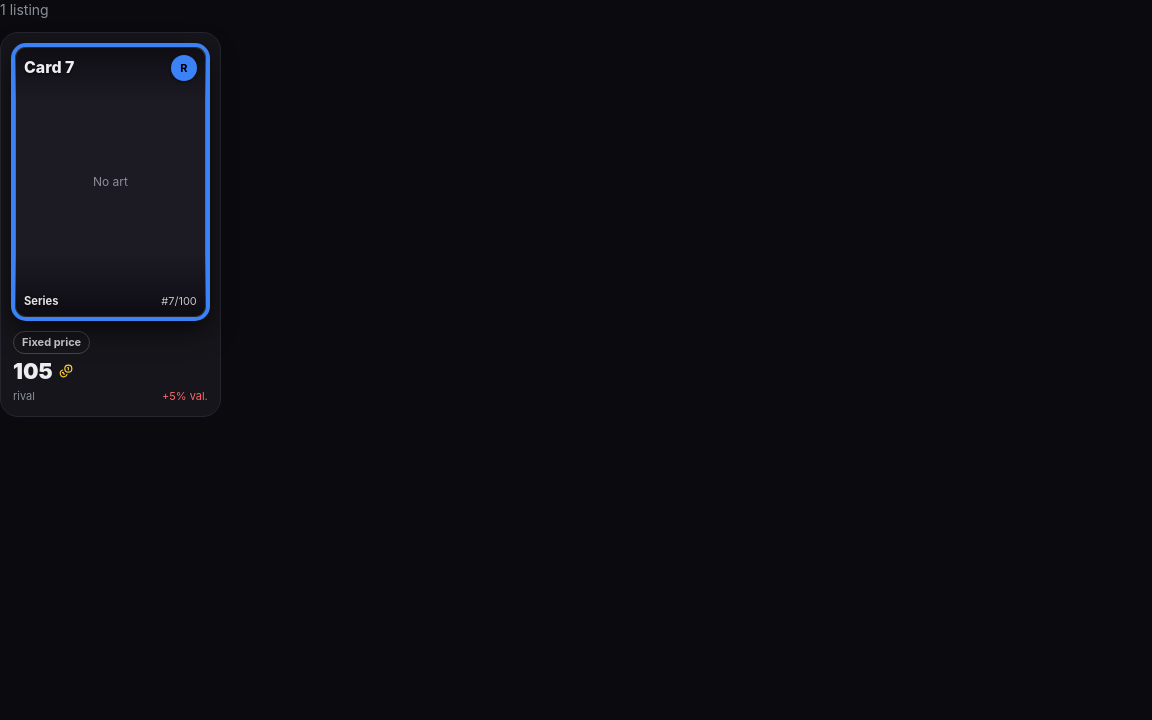
BuyTab › does not reload the list for other errors
Click the button with aria-label "buy".
click(110, 225)  # box left=0, top=32, right=221, bottom=417
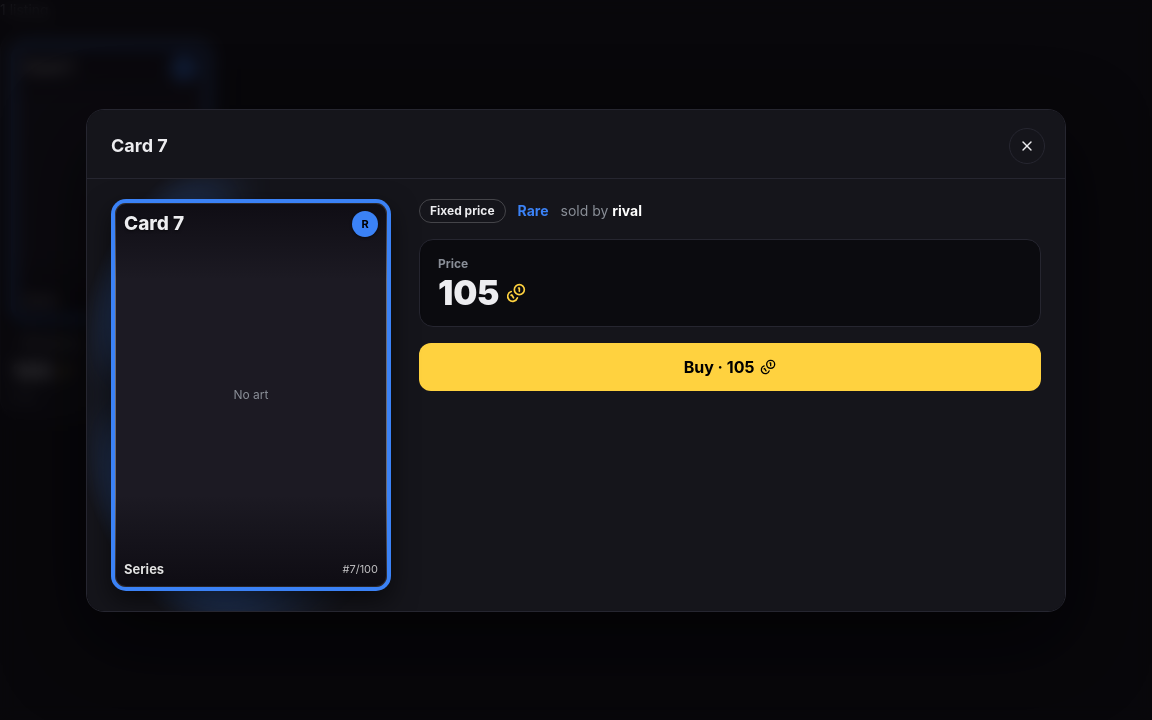
Click the button "Buy · 105".
click(730, 366)  # box left=419, top=342, right=1041, bottom=390
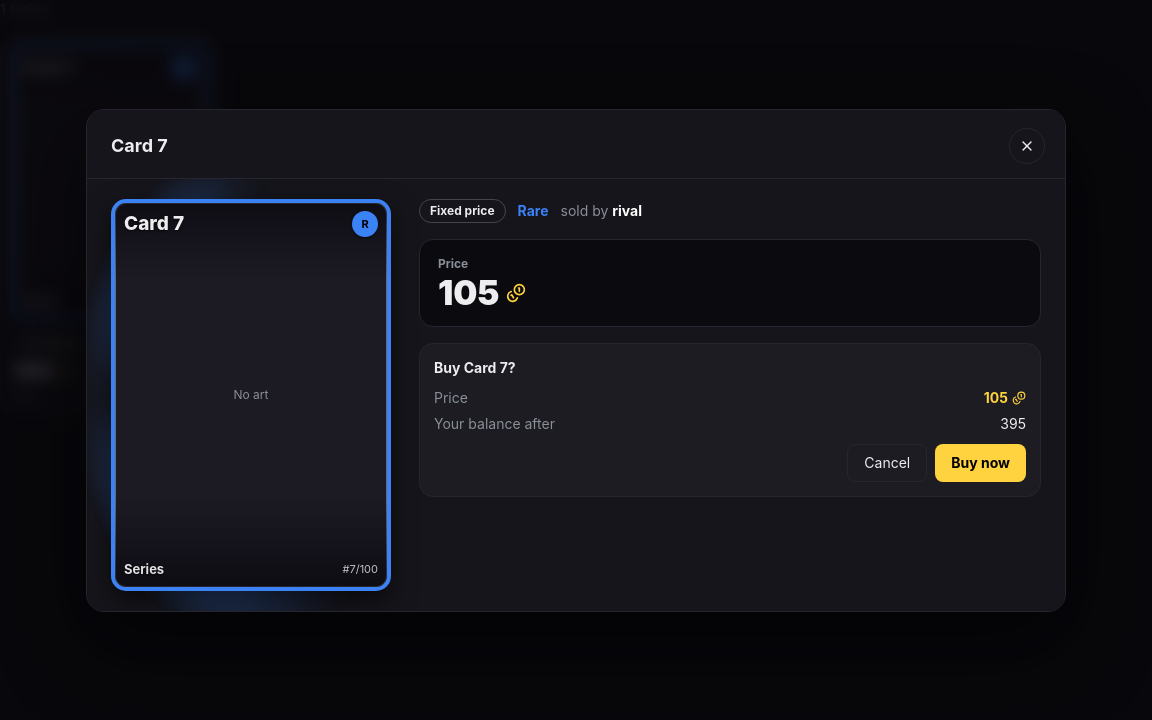
Click the button "Buy now".
click(981, 462)  # box left=935, top=444, right=1026, bottom=482
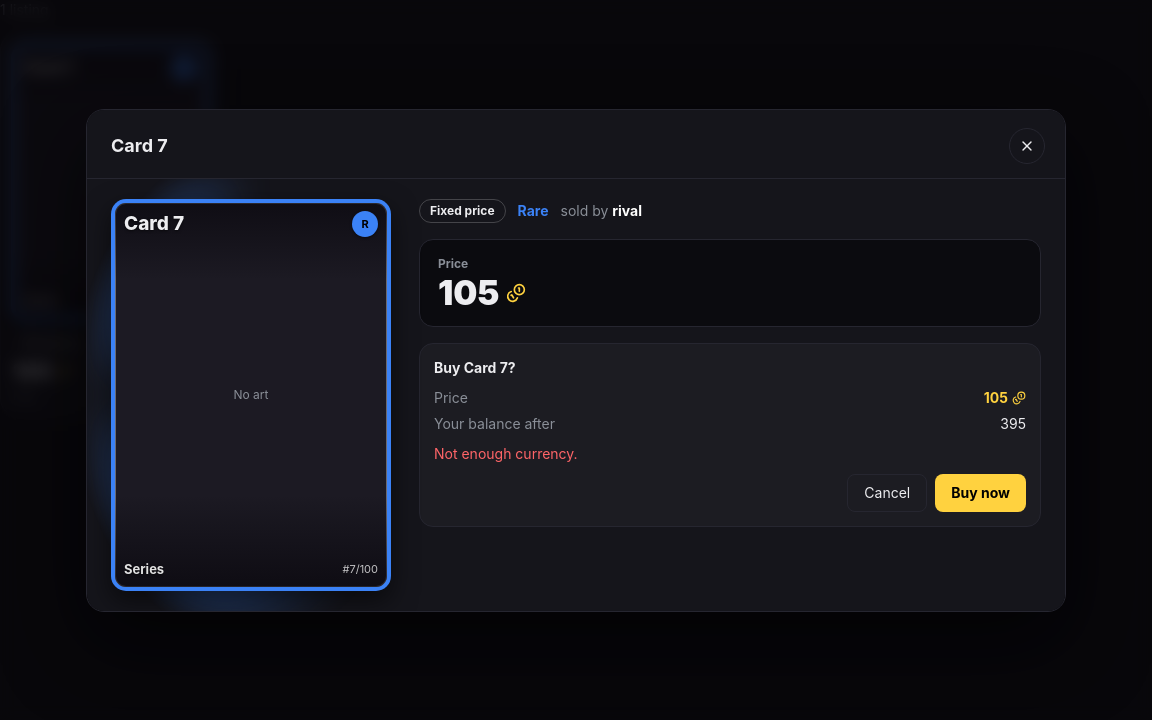
Result: the message reads "Not enough currency." at left=434, top=444, right=578, bottom=462
